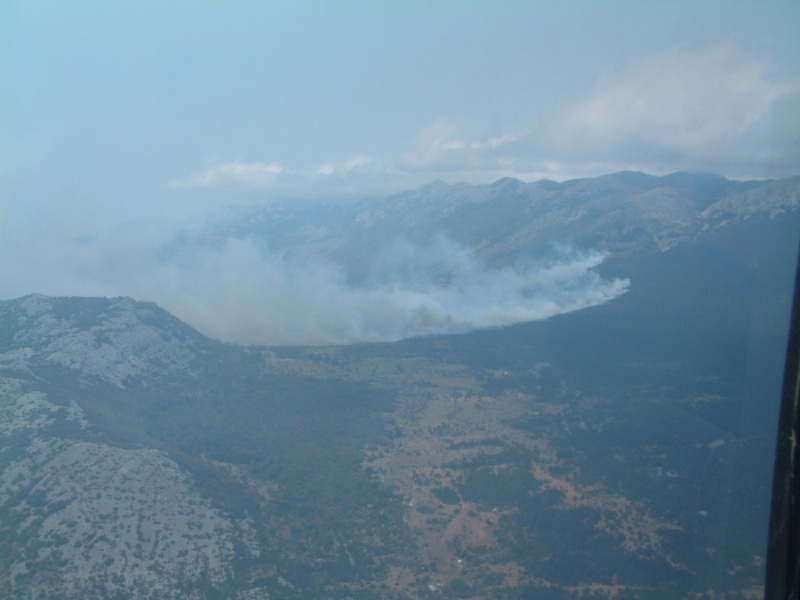smoke: (172, 235, 586, 317)
